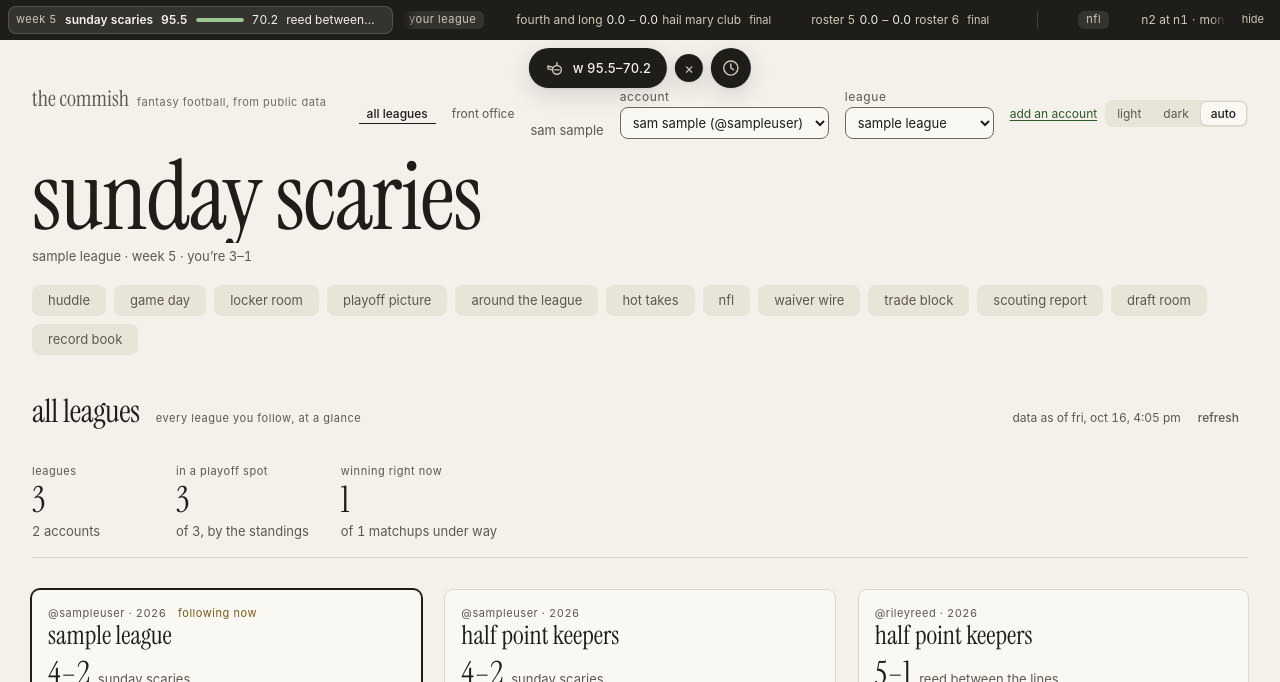
Scenario: all leagues › switches the league within the same account
This screenshot has width=1280, height=682.
Click the button with aria-label "open Half Point Keepers for Sam Sample" at (540, 635), box x1=461 y1=622 x2=819 y2=649
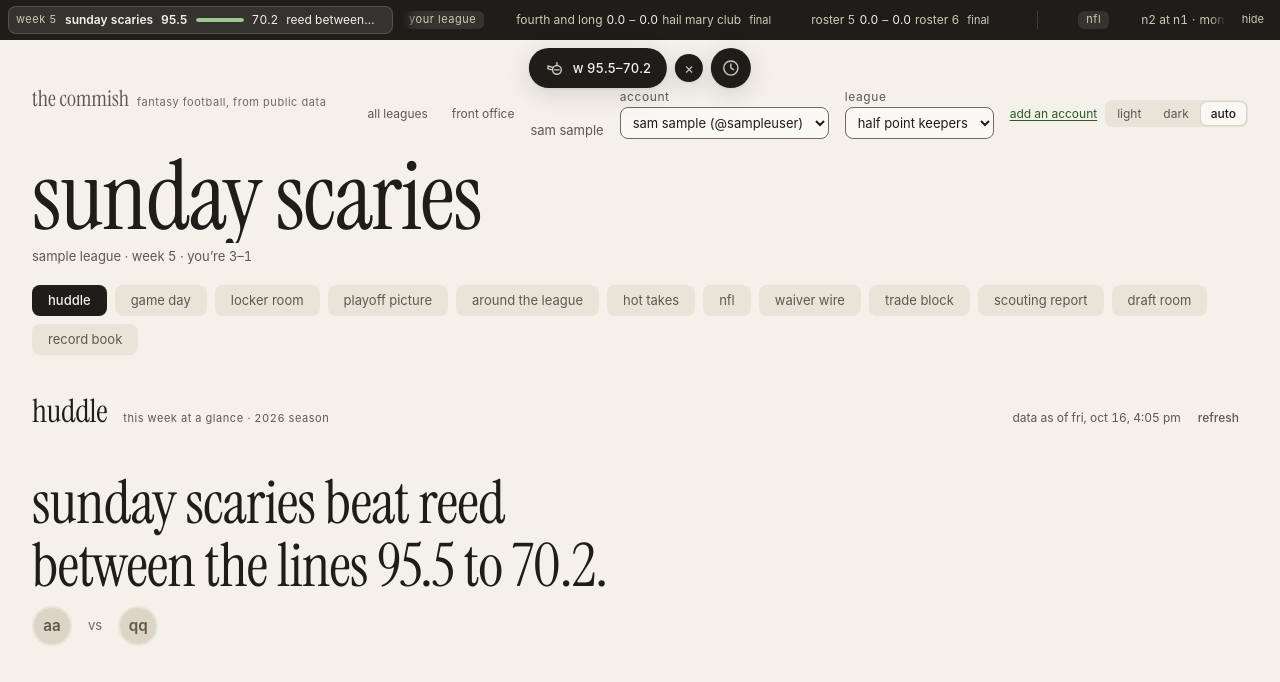
Check: the heading "huddle" is shown, box x1=32 y1=395 x2=107 y2=427
